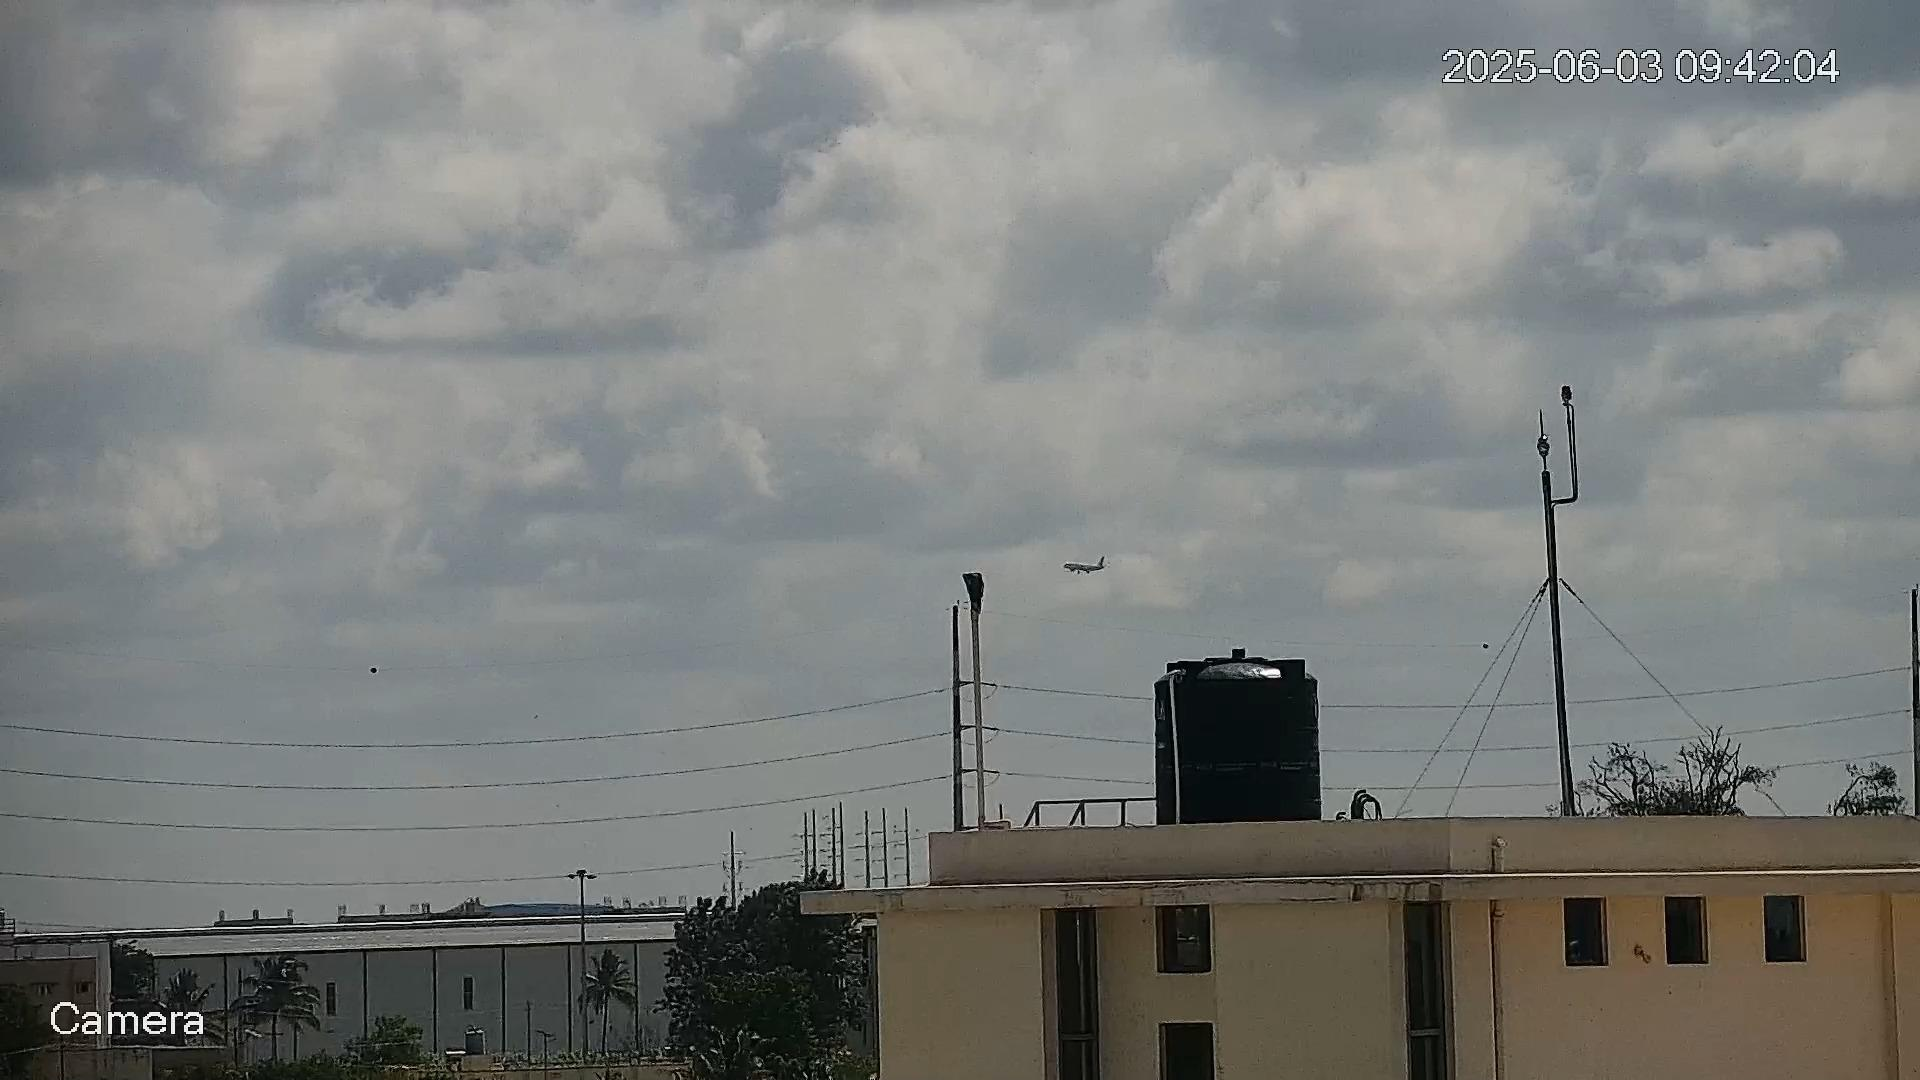Aircraft: (1062, 555, 1110, 575)
